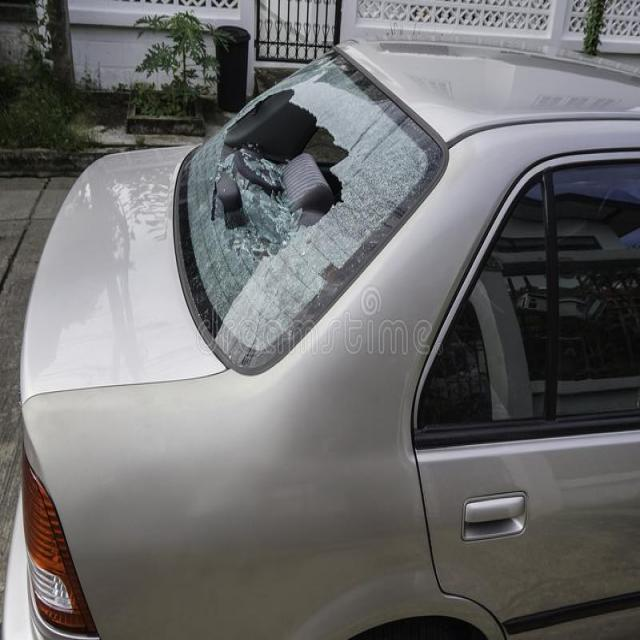Rear-windscreen-Damage: (167, 59, 428, 388)
